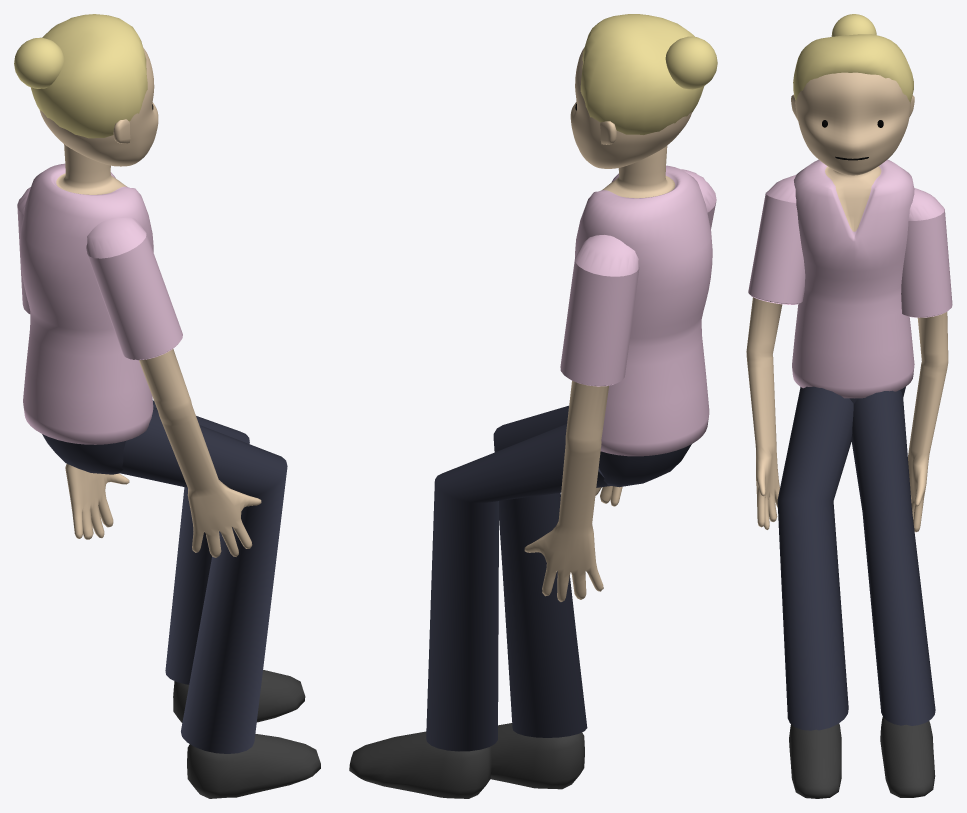
3 views of the same model, side by side, from view 1: azimuth 30°, elevation 25°; view 2: azimuth 150°, elevation 25°; view 3: azimuth 270°, elevation 25° (orthographic). The views are drawn at different scales.
Parts seen in each view (by area): view 1: pCylinder12, pCylinder10, pCylinder13, pSphere9, pCube16, pCylinder11, pCube10, pCylinder14, pCube14, pSphere11, pCube15; view 2: pCylinder12, pCylinder11, pCylinder14, pCylinder10, pSphere9, pCube14, pCube16, pCube10, pCube15, pSphere11, pCylinder13; view 3: pCylinder12, pCylinder10, pCylinder11, pCylinder13, pCylinder14, pCube10, pSphere9, pCube14, pCube16, pSphere11.
Part boxes in pixels (x1,y1,x2,y2): pCylinder12: (20,144,153,444); pCylinder10: (120,407,287,753); pCylinder13: (86,217,261,557); pSphere9: (30,14,147,138); pCube16: (187,733,320,798); pCylinder11: (152,400,249,684); pCube10: (39,47,158,166); pCylinder14: (17,187,129,539); pCube14: (173,670,305,722); pSphere11: (14,37,64,88); pCube15: (42,434,125,474); pCylinder12: (575,146,712,456); pCylinder11: (426,424,610,751); pCylinder14: (524,235,639,601); pCylinder10: (493,405,587,737); pSphere9: (580,14,704,134); pCube14: (349,731,491,798); pCube16: (490,723,584,789); pCube10: (570,47,691,168); pCube15: (598,444,691,487); pSphere11: (665,36,717,89); pCylinder13: (595,169,716,506); pCylinder12: (792,159,914,398); pCylinder10: (777,386,853,730); pCylinder11: (851,390,935,725); pCylinder13: (746,175,805,529); pCylinder14: (901,188,952,532); pCube10: (795,72,910,175); pSphere9: (793,34,913,103); pCube14: (880,717,935,797); pCube16: (789,723,841,798); pSphere11: (831,14,876,36).
Size of the model in its own units: 11.78 by 27.6 by 7.56.
